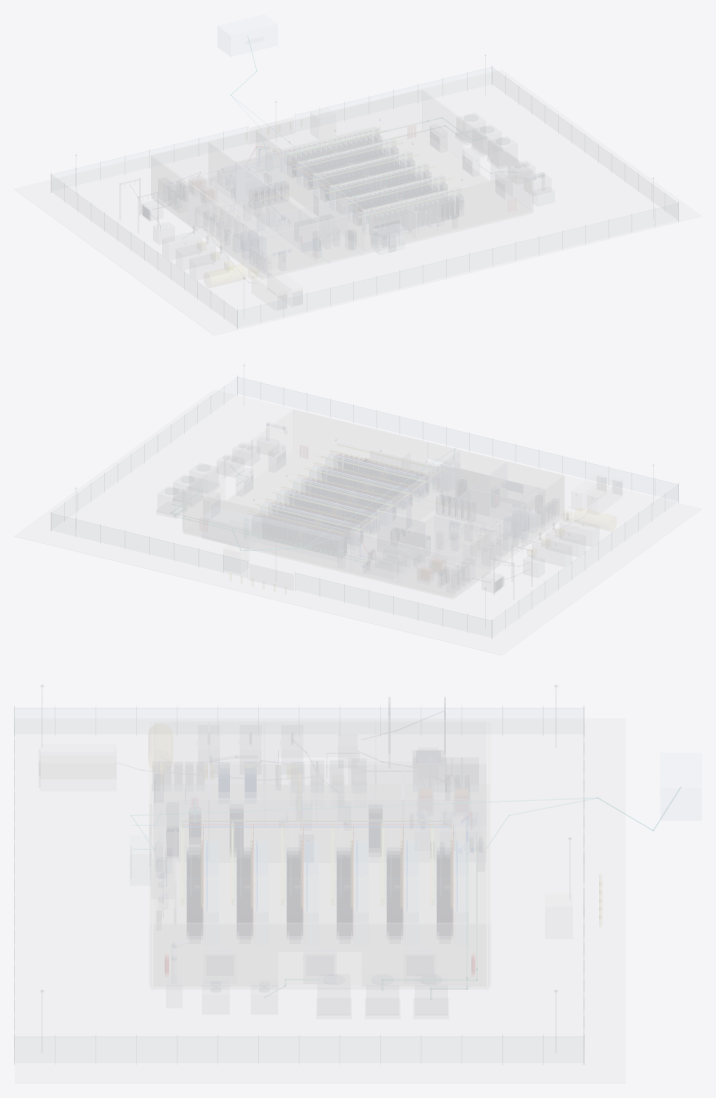
The model's file is hyperscale_campus.glb.
3 renders of one model, top to bottom at view 1: azimuth 30°, elevation 25°; view 2: azimuth 150°, elevation 25°; view 3: azimuth 270°, elevation 25°, orthographic. The views are drawn at different scales.
Size of the model in its own units: 62 by 10.9 by 49.54.
